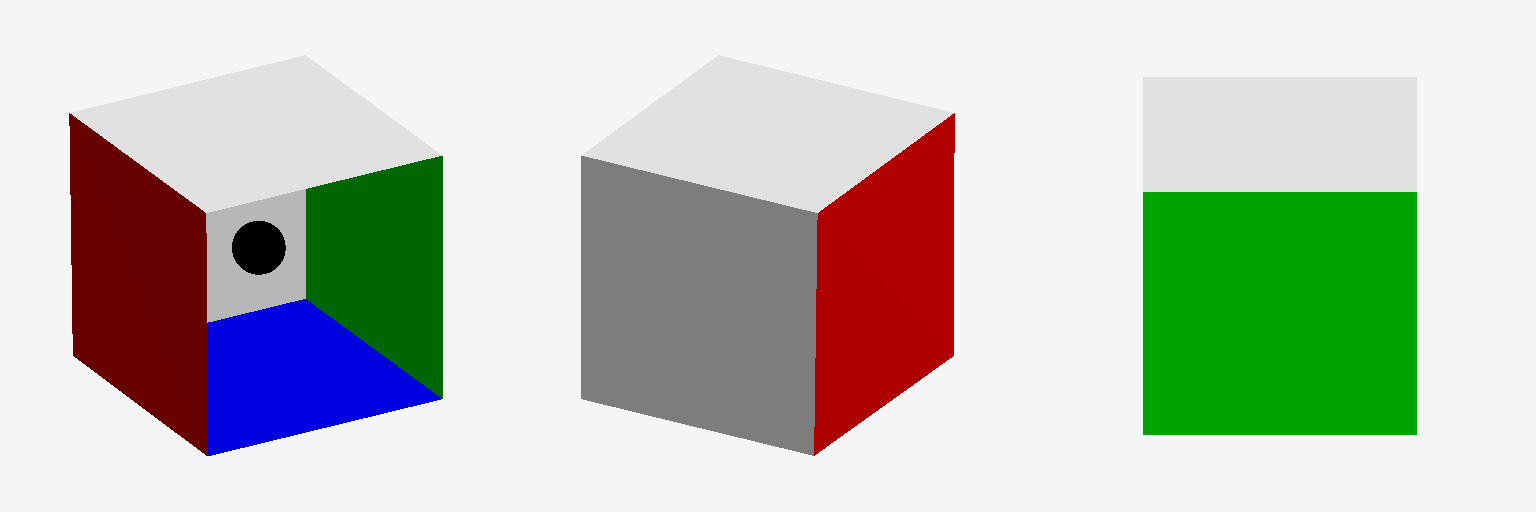
Rendered from custom_sphere.obj.
The picture shows the model from 3 angles: view 1: azimuth 30°, elevation 25°; view 2: azimuth 150°, elevation 25°; view 3: azimuth 270°, elevation 25°; orthographic projection.
Parts seen in each view (by area): view 1: CornellBox-Mirror, Sphere; view 2: CornellBox-Mirror; view 3: CornellBox-Mirror.
Part boxes in pixels (bbox=[...]): CornellBox-Mirror: bbox=[69, 55, 442, 455]; Sphere: bbox=[232, 221, 285, 274]; CornellBox-Mirror: bbox=[581, 55, 954, 455]; CornellBox-Mirror: bbox=[1143, 77, 1416, 434].
Size of the model in its own units: 2.02 by 1.99 by 2.03.